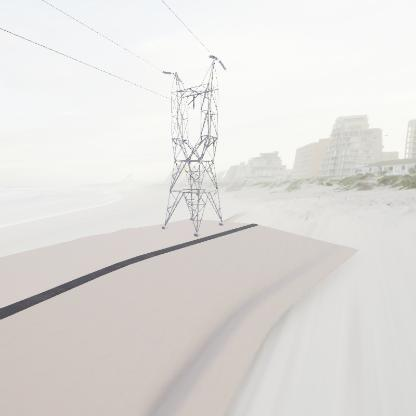tower: (158, 51, 229, 240)
